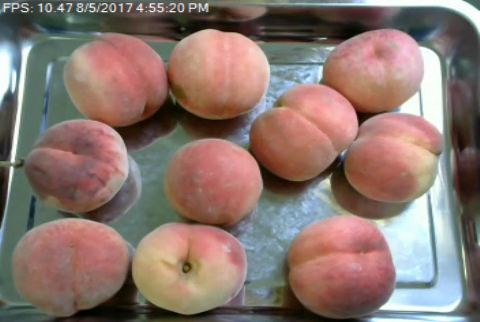Peach: (11, 216, 128, 316), (286, 215, 396, 319), (249, 83, 358, 182), (134, 222, 246, 316), (25, 118, 130, 213), (64, 32, 168, 127), (168, 26, 270, 120), (340, 112, 443, 203), (320, 25, 424, 115), (163, 138, 263, 225)
